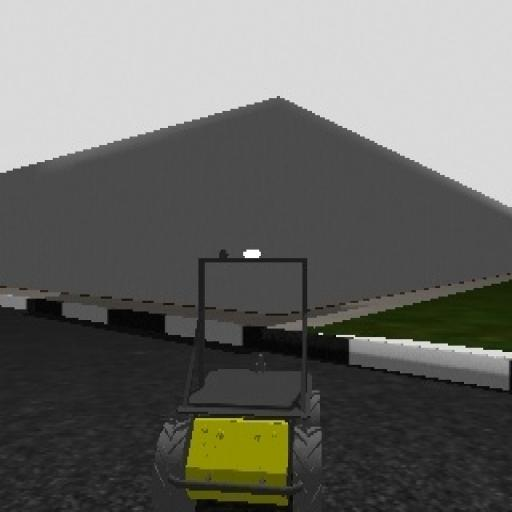huskya200: (152, 243, 335, 512)
